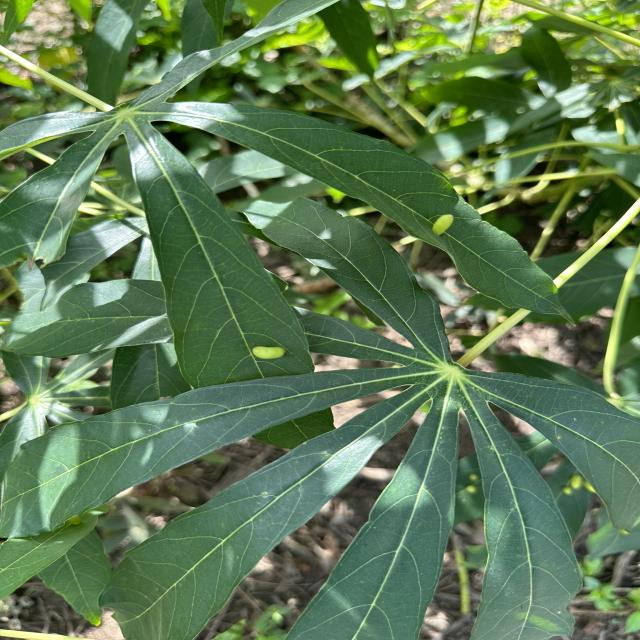Mosca: (556, 466, 603, 516), (241, 321, 287, 367), (427, 199, 464, 239), (449, 470, 482, 501)
